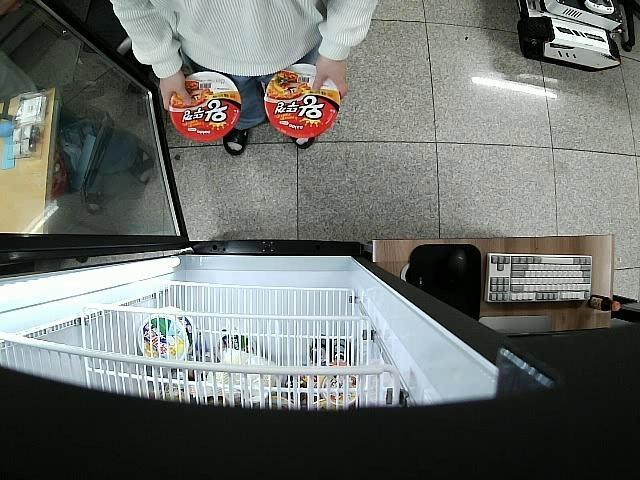10_wangTtukkeong: (265, 63, 340, 140), (168, 71, 242, 140)
